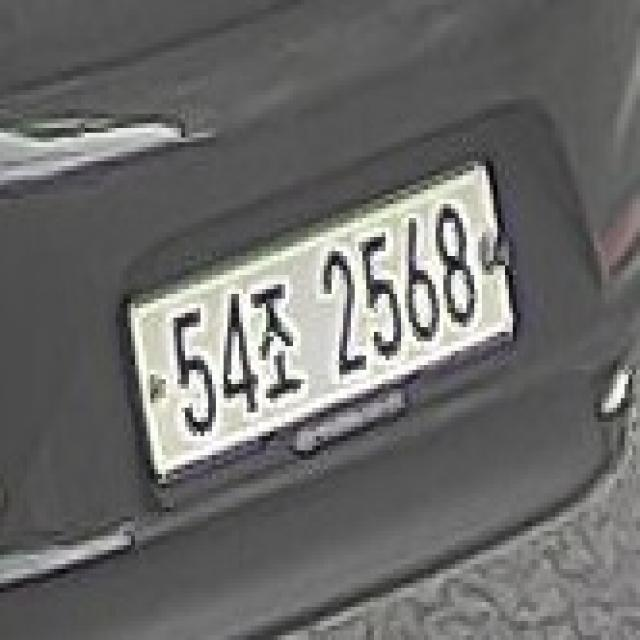2: (316, 232, 363, 384)
4: (216, 280, 254, 417)
5: (166, 294, 212, 446), (362, 223, 401, 360)
6: (401, 204, 439, 360)
8: (428, 194, 490, 332)
jo: (247, 261, 312, 398)
license_plate: (112, 147, 528, 536)
